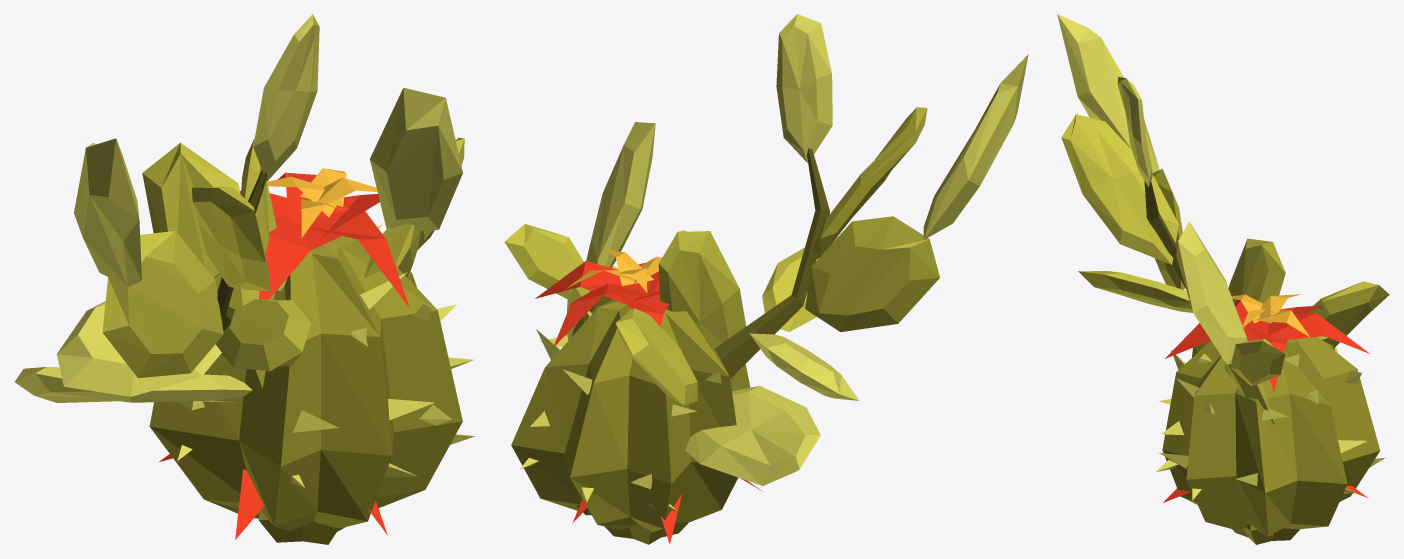
Rendered from Cactus2.FBX.
3 views of the same model, side by side, from view 1: azimuth 30°, elevation 25°; view 2: azimuth 150°, elevation 25°; view 3: azimuth 270°, elevation 25° (orthographic). The views are drawn at different scales.
Parts seen in each view (by area): view 1: Cactus_Weird, Cactus_RoundBig, Flower_01, Cactus_RoundSmall; view 2: Cactus_Weird, Cactus_RoundBig, Cactus_RoundSmall; view 3: Cactus_RoundBig, Cactus_Weird, Cactus_RoundSmall.
Boxes of the visible parts, left/top/right/bottom form: Cactus_Weird: left=14, top=14, right=464, bottom=402; Cactus_RoundBig: left=149, top=168, right=474, bottom=530; Flower_01: left=159, top=454, right=387, bottom=539; Cactus_RoundSmall: left=258, top=511, right=345, bottom=544; Cactus_Weird: left=504, top=14, right=1028, bottom=515; Cactus_RoundBig: left=511, top=249, right=750, bottom=532; Cactus_RoundSmall: left=605, top=522, right=688, bottom=544; Cactus_RoundBig: left=1155, top=294, right=1385, bottom=536; Cactus_Weird: left=1057, top=14, right=1389, bottom=525; Cactus_RoundSmall: left=1232, top=523, right=1299, bottom=544.
Size of the model in its own units: 3.4 by 3.86 by 2.75.
Materials: 1 (1 with a texture image).
